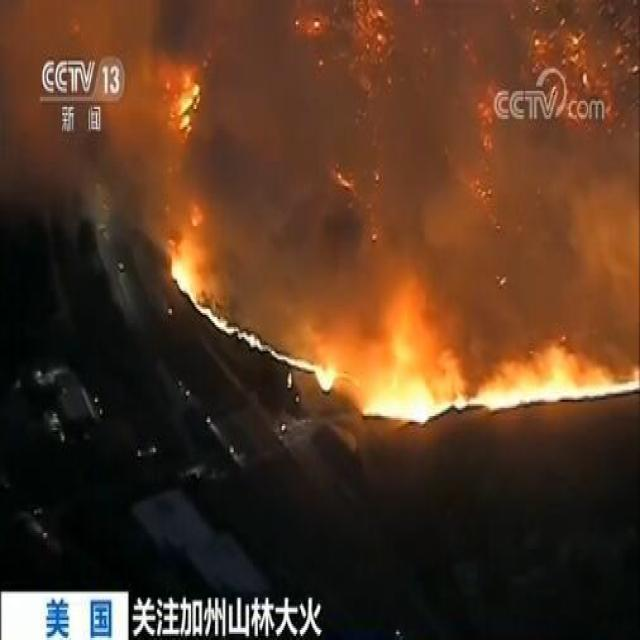fire: (298, 238, 632, 418), (148, 62, 234, 310)
